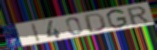0: (65, 16, 84, 36)
4: (45, 19, 63, 39)
D: (84, 12, 107, 34)
G: (105, 8, 129, 30)
I: (31, 22, 43, 42)
R: (126, 5, 152, 26)
